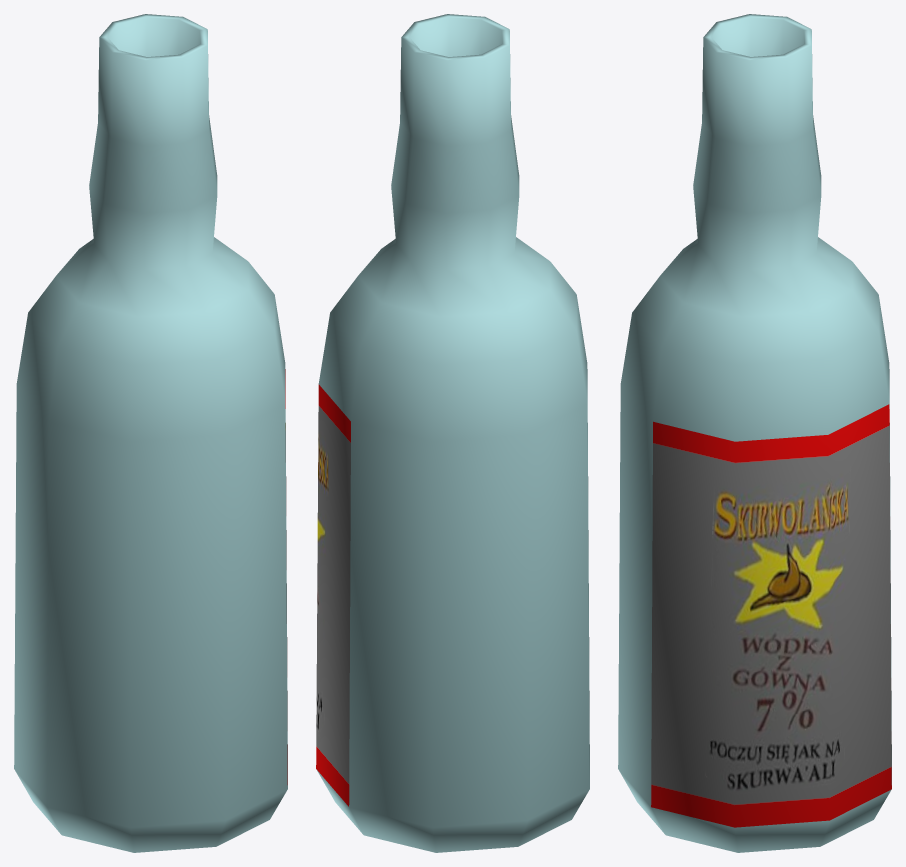
The model's file is skurwoala.obj.
3 views of the same model, side by side, from view 1: azimuth 30°, elevation 25°; view 2: azimuth 150°, elevation 25°; view 3: azimuth 270°, elevation 25° (orthographic).
Parts seen in each view (by area): view 1: Cube; view 2: Cube; view 3: Cube.
Boxes of the visible parts, <box> form: Cube: <box>14,14,287,852</box>; Cube: <box>316,14,589,852</box>; Cube: <box>618,14,891,852</box>.
Bounding box in the file's own units: 2.9 × 8.8 × 2.85.
Materials: 3 (2 with a texture image).
